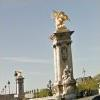Statue: (44, 5, 78, 86)
